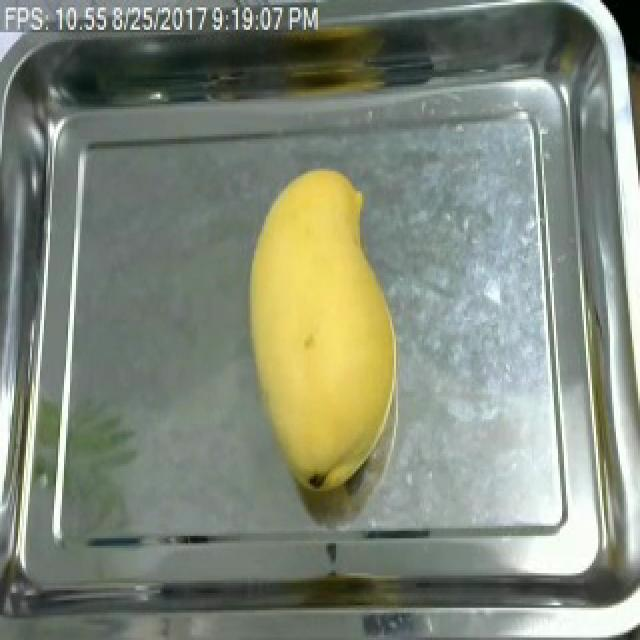fruit: (232, 161, 410, 504)
